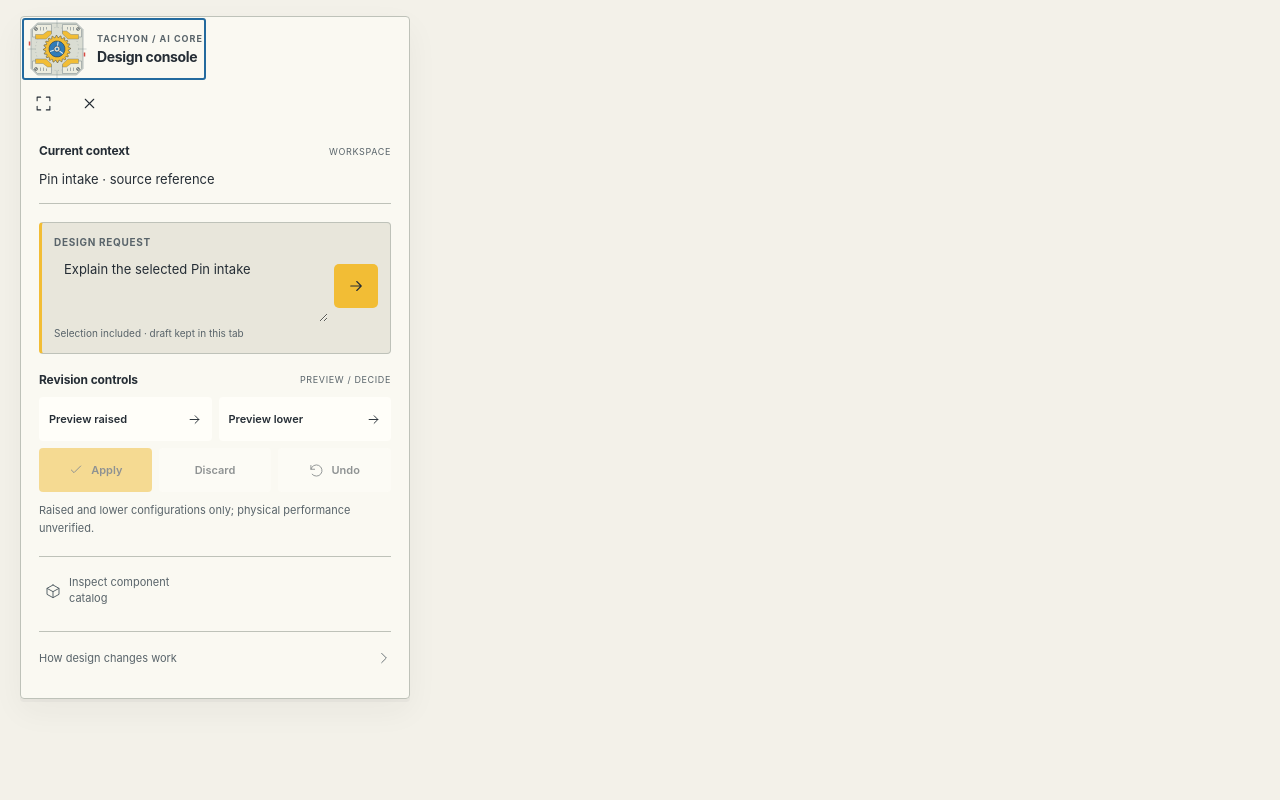
Test: delegates preview and decision controls and disables unsupported actions with a reason
The width and height of the screenshot is (1280, 800).
Click the button "Preview raised". click: (125, 419)
box: x1=39 y1=397 x2=212 y2=441
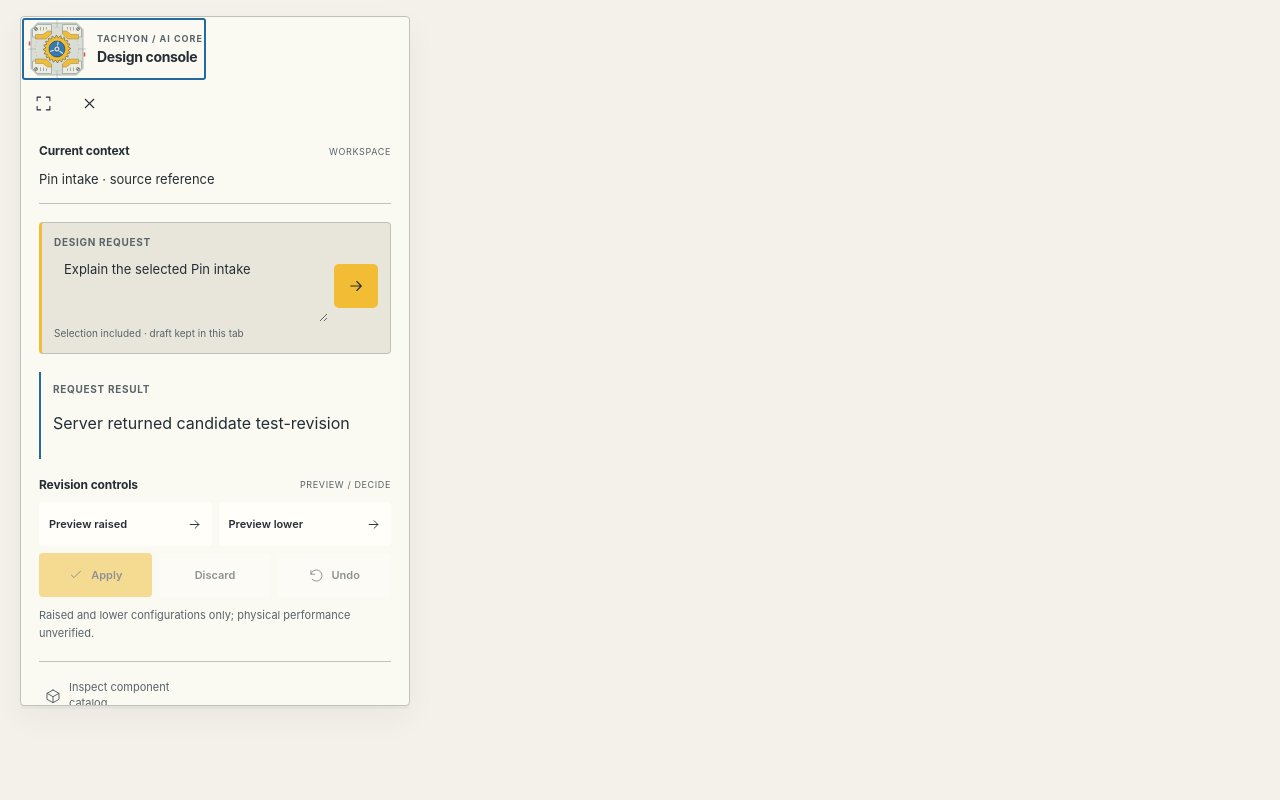
Expected: the button "Apply" is disabled, x1=39 y1=553 x2=152 y2=597
Result: the message shows "candidate test-revision" at x1=53 y1=413 x2=350 y2=433
